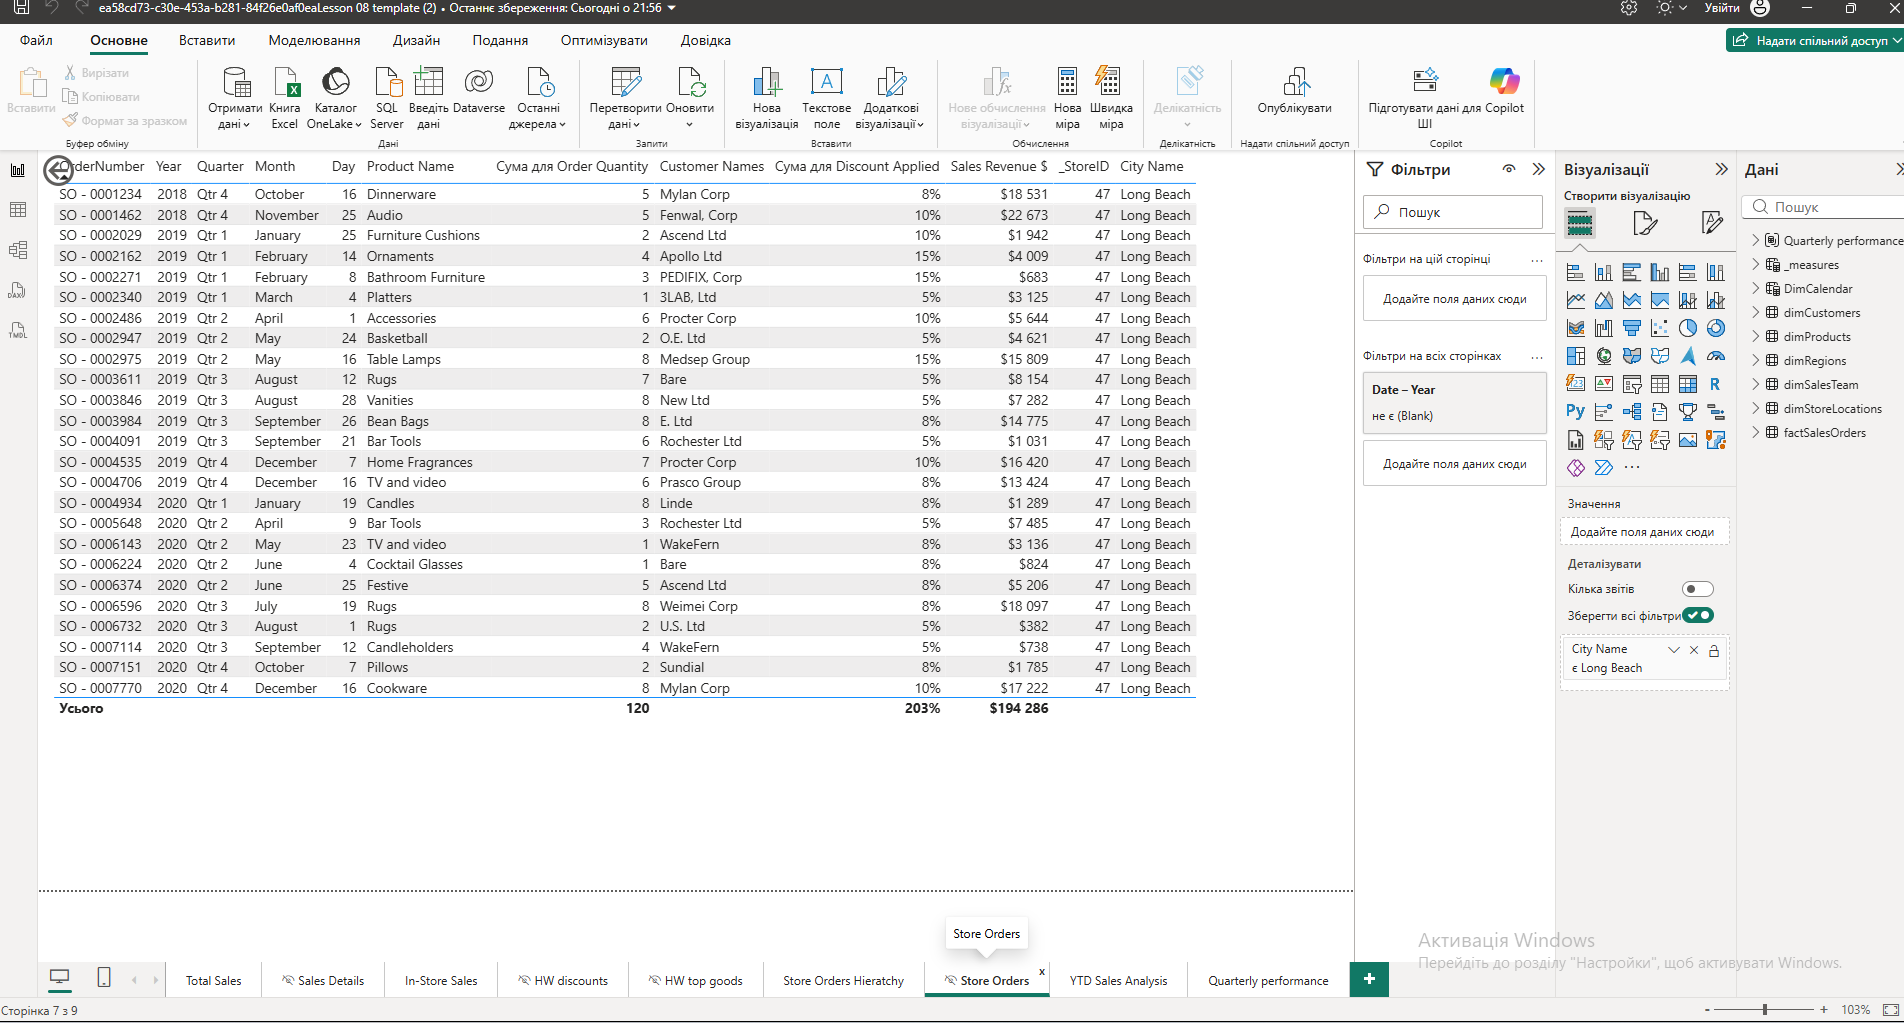

This screenshot's page, from the dashboard's own definition file:
{"tool":"powerbi","page":{"name":"Store Orders","canvas":[1280,720],"ordinal":6},"visuals":[{"type":"tableEx","fields":{"Values":["factSalesOrders.OrderNumber","factSalesOrders.ShipDate.Variation.Date Hierarchy.Year","factSalesOrders.ShipDate.Variation.Date Hierarchy.Quarter","factSalesOrders.ShipDate.Variation.Date Hierarchy.Month","factSalesOrders.ShipDate.Variation.Date Hierarchy.Day","dimProducts.Product Name","Sum(factSalesOrders.Order Quantity)","dimCustomers.Customer Names","Sum(factSalesOrders.Discount Applied)","_measures.Sales Revenue $","factSalesOrders._StoreID","dimStoreLocations.City Name"]},"box":[9.9,0,1226.2,678.9],"z":0},{"type":"actionButton","box":[0,0,100,40],"z":1000}]}

Visuals, with their boxes on the page's 1280x720 design canvas (x1, y1, x2, y2). These are canvas units, not pixel positions in the 1904x1023 screenshot, which may show the page scaled, cropped or inside an application window:
tableEx - factSalesOrders.OrderNumber x factSalesOrders.ShipDate.Variation.Date Hierarchy.Year: [left=10, top=0, right=1236, bottom=679]
actionButton: [left=0, top=0, right=100, bottom=40]
